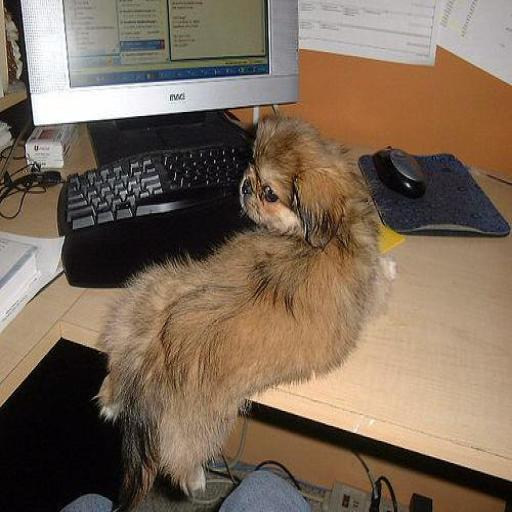dog_face: (236, 125, 345, 244)
